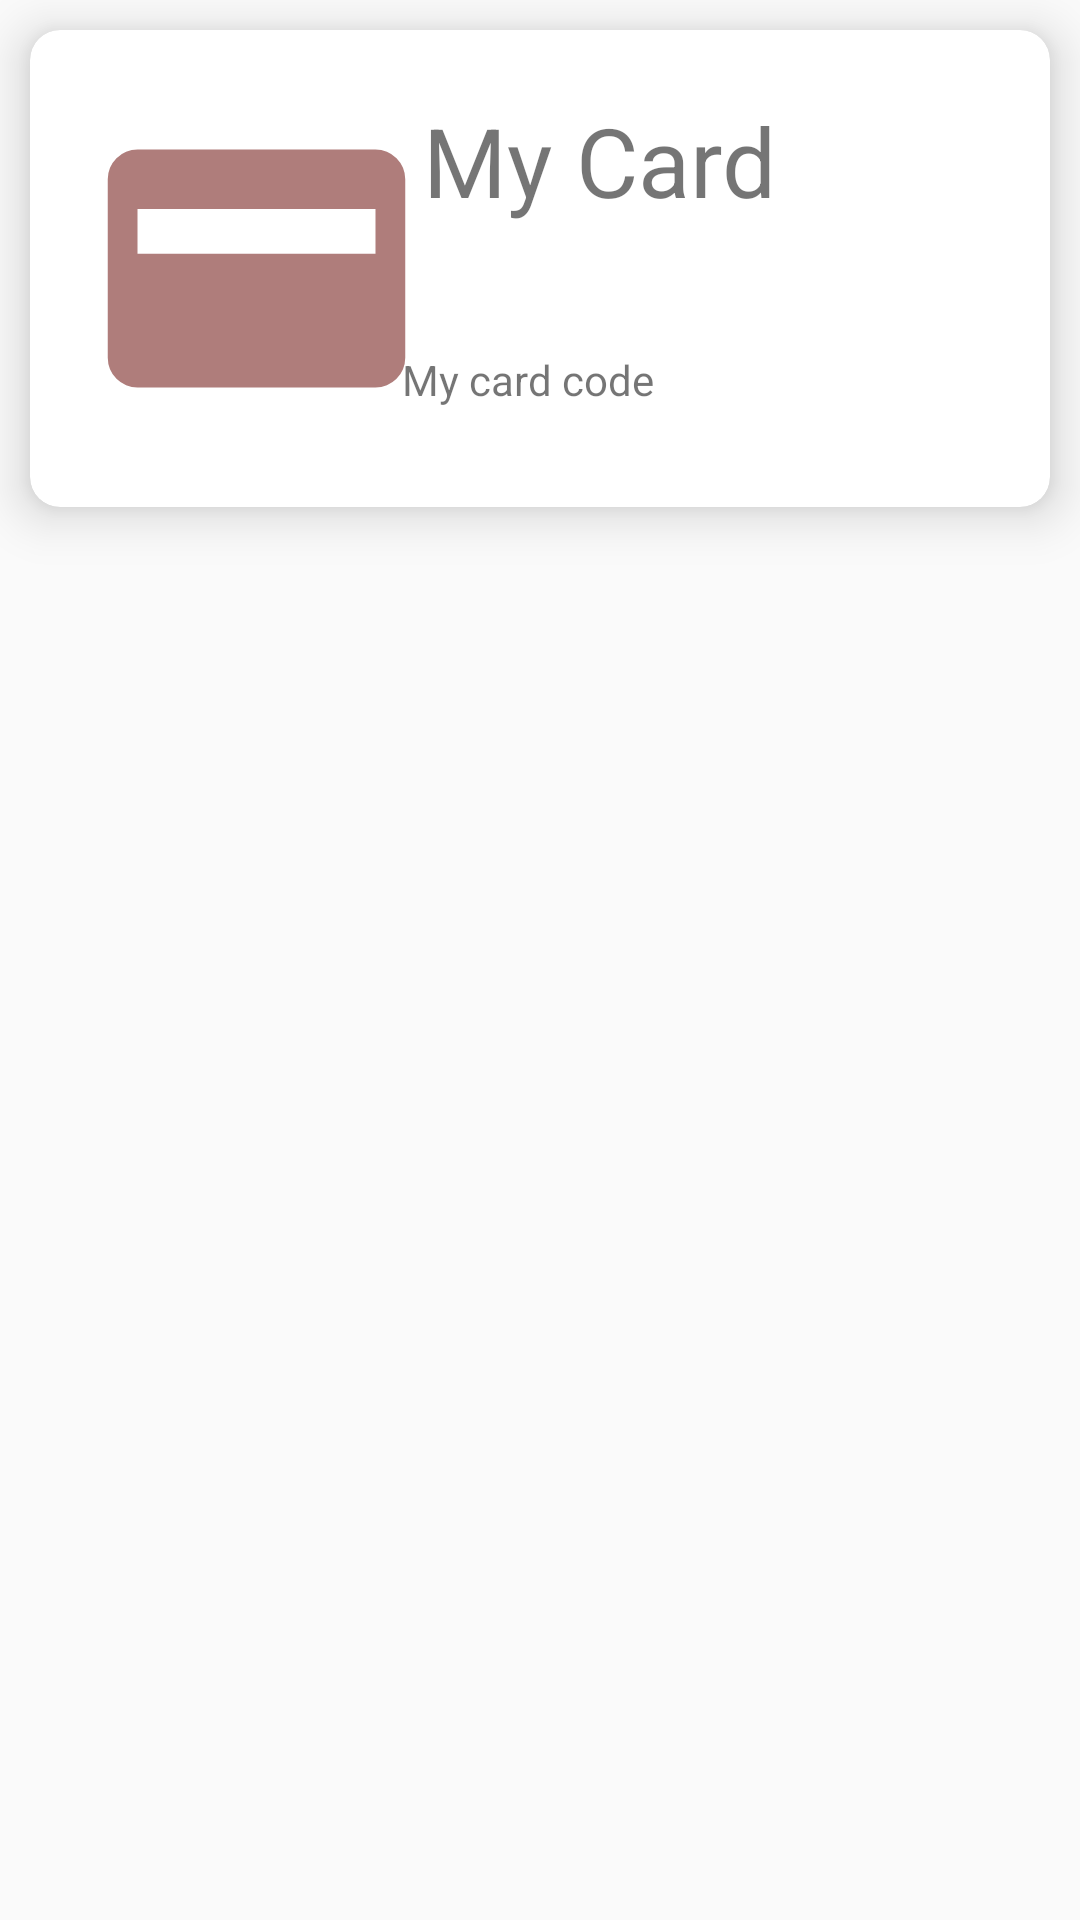

Point at icon controls on the screen. Image size 1080px x 1920px, points as point (x, y).
credit card: point (282, 277)
